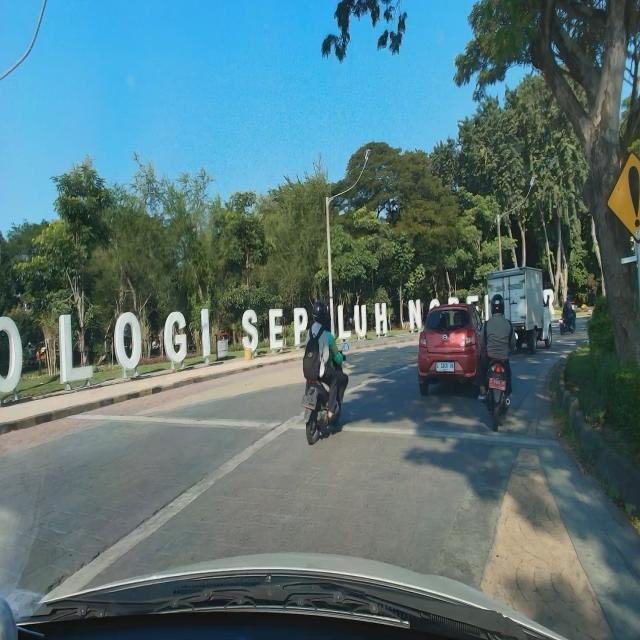car: (417, 302, 486, 396)
license-plate: (436, 362, 454, 372)
truck: (486, 266, 553, 353)
